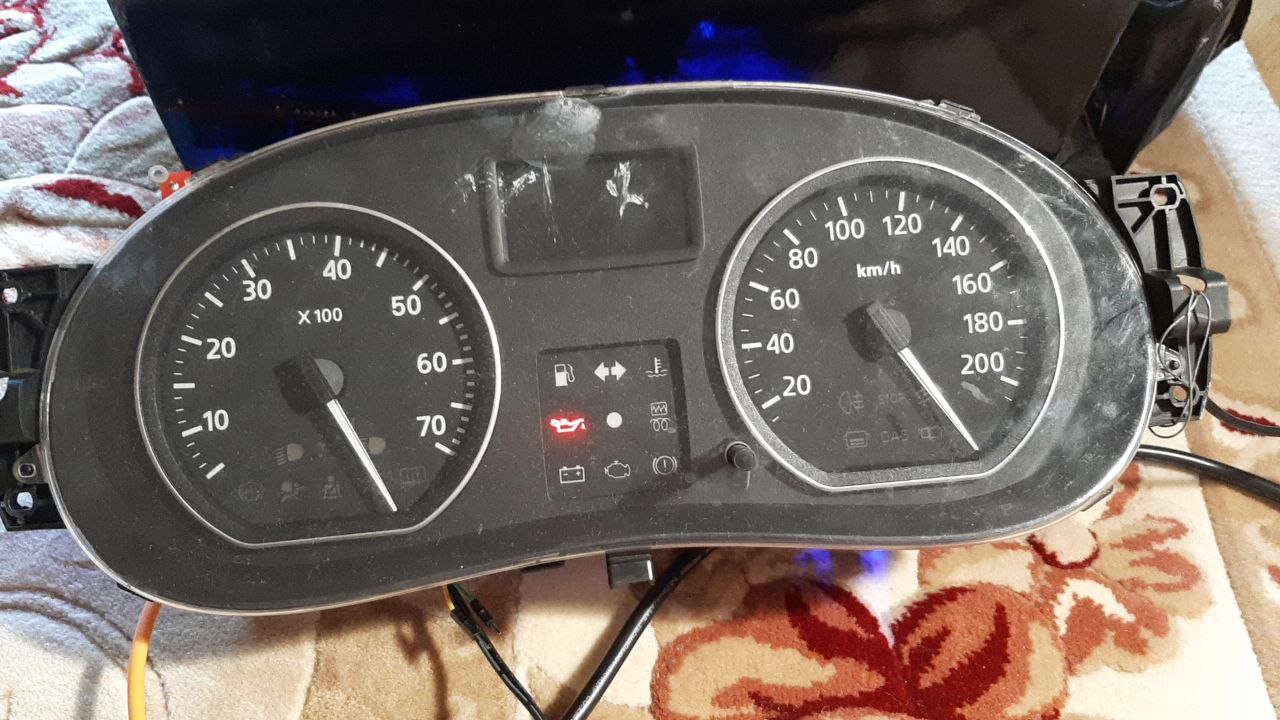oil: (543, 414, 594, 434)
